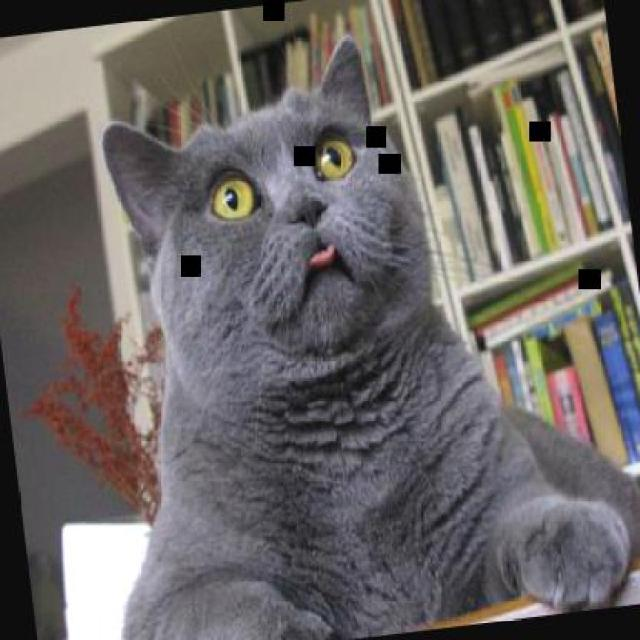cat: (51, 1, 638, 638)
